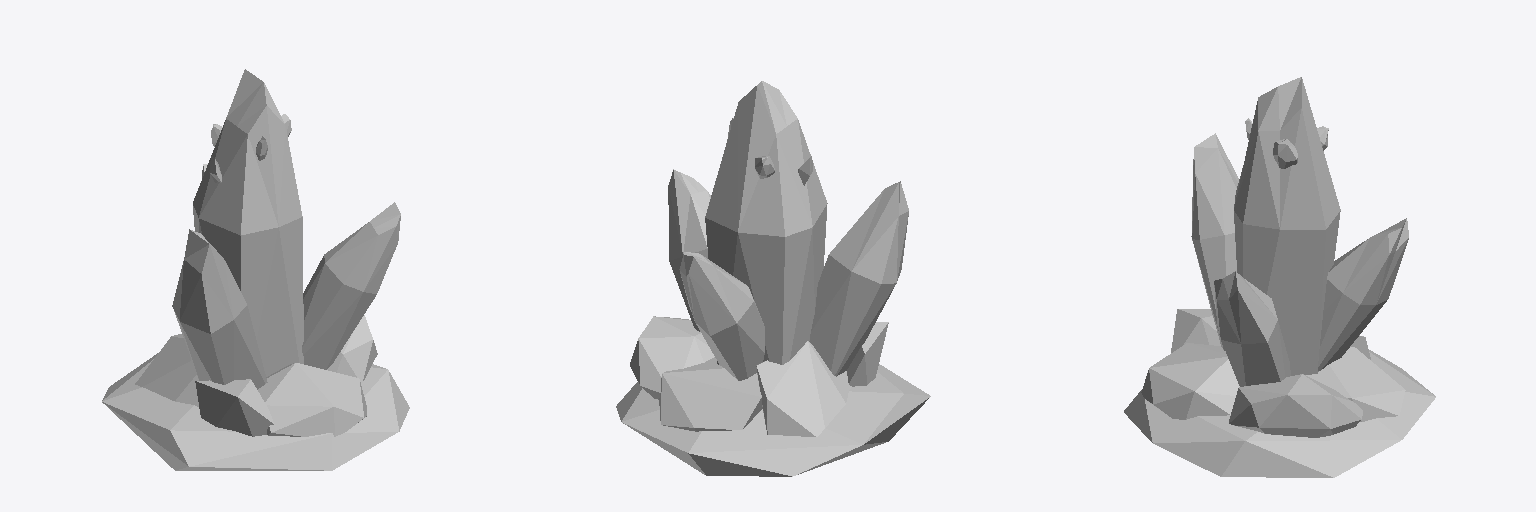
The model's file is mine3.obj.
3 renders of one model, left to right at view 1: azimuth 30°, elevation 25°; view 2: azimuth 150°, elevation 25°; view 3: azimuth 270°, elevation 25°, orthographic.
Parts seen in each view (by area): view 1: Crystal1_Icosphere.011; view 2: Crystal1_Icosphere.011; view 3: Crystal1_Icosphere.011.
Part boxes in pixels (x1,y1,x2,y2): Crystal1_Icosphere.011: (102,69,409,470); Crystal1_Icosphere.011: (616,81,930,476); Crystal1_Icosphere.011: (1124,77,1435,477).
Size of the model in its own units: 1.37 by 1.88 by 1.49.